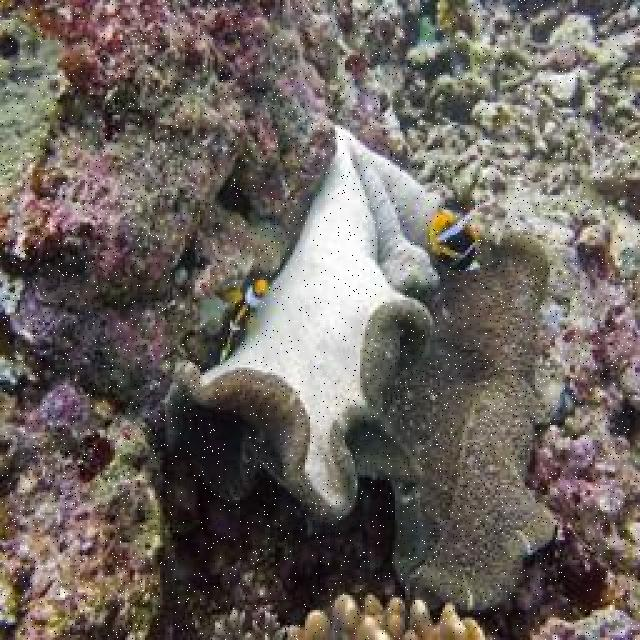fish: (215, 278, 268, 366), (428, 211, 483, 272)
reefs: (159, 124, 567, 614), (285, 591, 490, 638)
